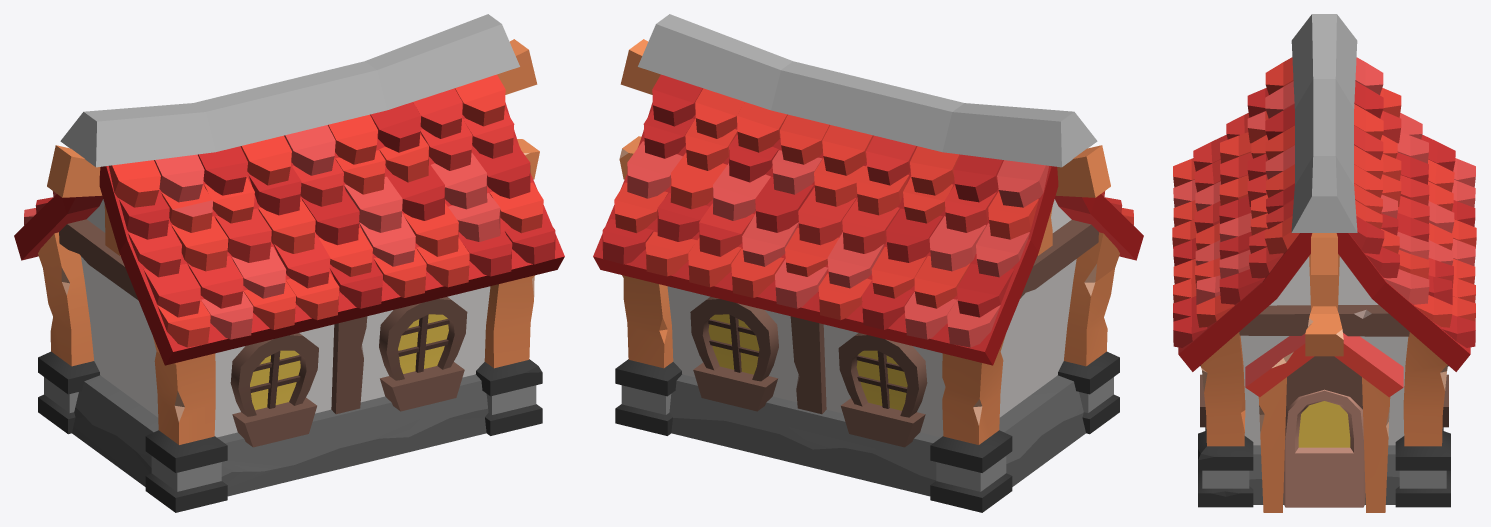
Rendered from house_003.glb.
3 renders of one model, left to right at view 1: azimuth 30°, elevation 25°; view 2: azimuth 150°, elevation 25°; view 3: azimuth 270°, elevation 25°, orthographic. The views are drawn at different scales.
Visible parts, largest first — view 1: house_003; view 2: house_003; view 3: house_003.
Boxes of the visible parts, <box> form: house_003: <box>14,14,564,512</box>; house_003: <box>593,14,1143,512</box>; house_003: <box>1172,14,1476,512</box>.
Bounding box in the file's own units: 5.4 × 3.8 × 3.26.
1 material, 1 textured.
